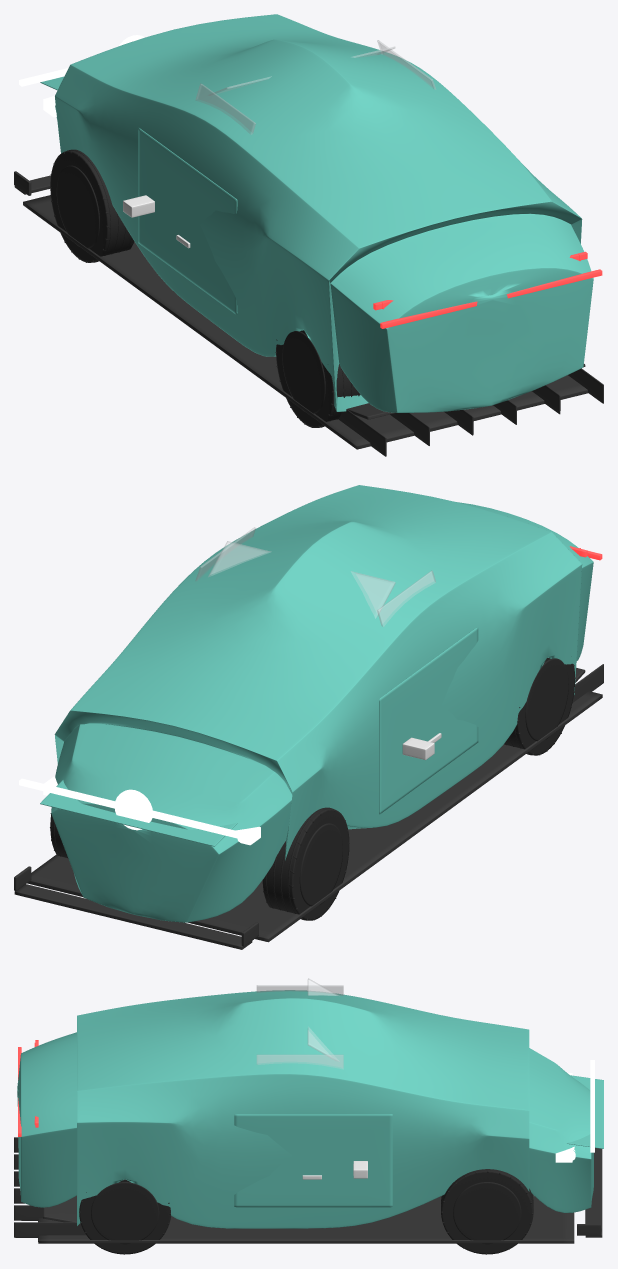
The model's file is Car_Volkswagen_ID_Buzz_Cargo_future_Complete.glb.
3 renders of one model, top to bottom at view 1: azimuth 30°, elevation 25°; view 2: azimuth 150°, elevation 25°; view 3: azimuth 270°, elevation 25°, orthographic. The views are drawn at different scales.
Visible parts, largest first — view 1: BODY_MainShell, UNDERBODY_FlatFloor, BODY_Door_FL, WHEEL_FL_Tire, WHEEL_RL_Tire, GLASS_Greenhouse, LIGHTING_IDBuzz_RearLightbar, JEWELRY_Hardware; view 2: BODY_MainShell, UNDERBODY_FlatFloor, BODY_Door_FL, WHEEL_FL_Tire, WHEEL_RL_Tire, AERO_FrontSplitter, GLASS_Greenhouse, BODY_Hood, LIGHTING_IDBuzz_FrontRibbon, LIGHTING_IDBuzz_VWLogo, JEWELRY_Hardware; view 3: BODY_MainShell, BODY_Door_FR, UNDERBODY_FlatFloor, WHEEL_FR_Tire, WHEEL_RR_Tire, GLASS_Greenhouse, AERO_FrontSplitter, BODY_Hood, LIGHTING_IDBuzz_FrontRibbon.
Boxes of the visible parts, left/top/right/bottom form: BODY_MainShell: left=55, top=14, right=593, bottom=412; UNDERBODY_FlatFloor: left=23, top=195, right=603, bottom=456; BODY_Door_FL: left=138, top=127, right=237, bottom=314; WHEEL_FL_Tire: left=50, top=149, right=134, bottom=262; WHEEL_RL_Tire: left=275, top=330, right=360, bottom=427; GLASS_Greenhouse: left=195, top=40, right=435, bottom=134; LIGHTING_IDBuzz_RearLightbar: left=380, top=269, right=602, bottom=328; JEWELRY_Hardware: left=123, top=195, right=190, bottom=248; BODY_MainShell: left=51, top=485, right=593, bottom=922; UNDERBODY_FlatFloor: left=27, top=664, right=603, bottom=942; BODY_Door_FL: left=379, top=627, right=478, bottom=814; WHEEL_FL_Tire: left=262, top=807, right=349, bottom=920; WHEEL_RL_Tire: left=504, top=657, right=575, bottom=755; AERO_FrontSplitter: left=14, top=866, right=258, bottom=949; GLASS_Greenhouse: left=195, top=527, right=435, bottom=626; BODY_Hood: left=40, top=780, right=237, bottom=846; LIGHTING_IDBuzz_FrontRibbon: left=19, top=778, right=249, bottom=840; LIGHTING_IDBuzz_VWLogo: left=115, top=789, right=152, bottom=830; JEWELRY_Hardware: left=402, top=733, right=441, bottom=760; BODY_MainShell: left=17, top=990, right=593, bottom=1228; BODY_Door_FR: left=234, top=1114, right=392, bottom=1207; UNDERBODY_FlatFloor: left=14, top=1137, right=574, bottom=1243; WHEEL_FR_Tire: left=441, top=1169, right=533, bottom=1254; WHEEL_RR_Tire: left=79, top=1179, right=170, bottom=1254; GLASS_Greenhouse: left=256, top=978, right=343, bottom=1068; AERO_FrontSplitter: left=577, top=1148, right=602, bottom=1237; BODY_Hood: left=566, top=1075, right=603, bottom=1148; LIGHTING_IDBuzz_FrontRibbon: left=590, top=1060, right=594, bottom=1152.
Size of what is drawn, in the model's own units: 2.32 by 1.91 by 4.87.
